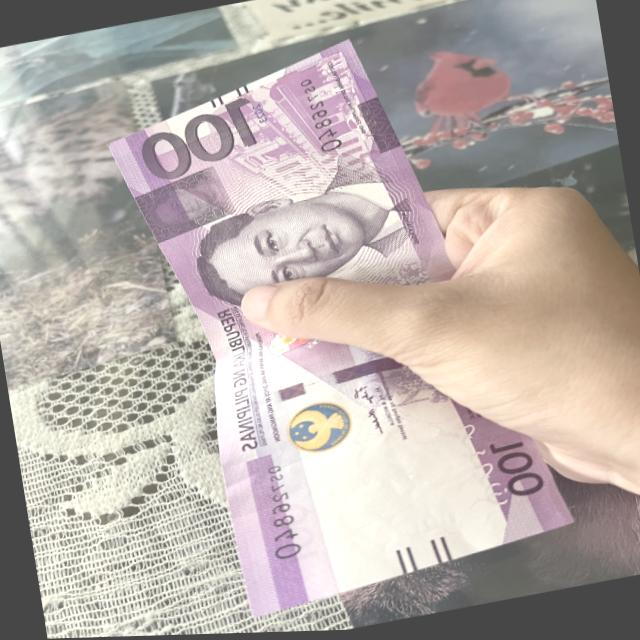concealed_value: (132, 163, 245, 248)
security_thread: (220, 348, 418, 423)
see_through_mark: (448, 414, 520, 521)
serial_number: (288, 67, 348, 164), (255, 460, 302, 569)
value: (129, 93, 269, 188)
